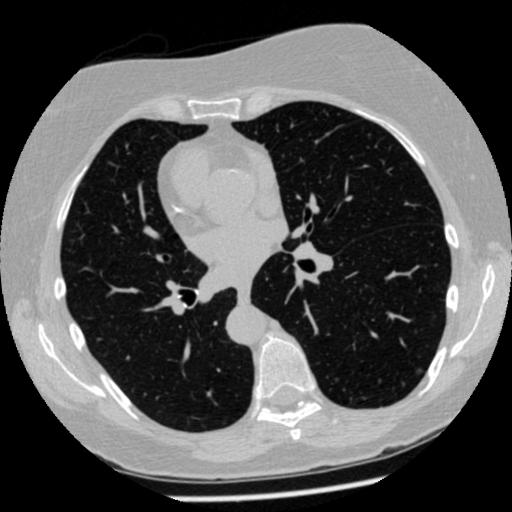nodule: (415, 364, 428, 377)
